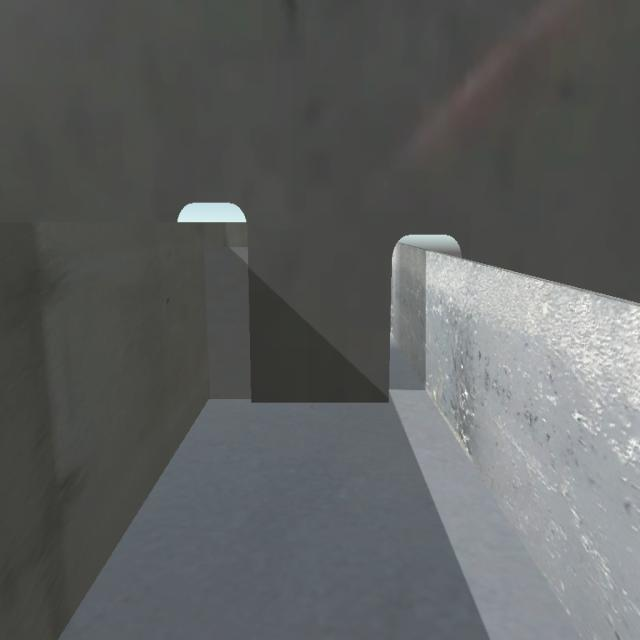fillet_yong_jeop_jang: (206, 393, 390, 406)
longi_yong_jeop_jang: (194, 253, 212, 403)
plate_behind: (209, 249, 248, 403)
